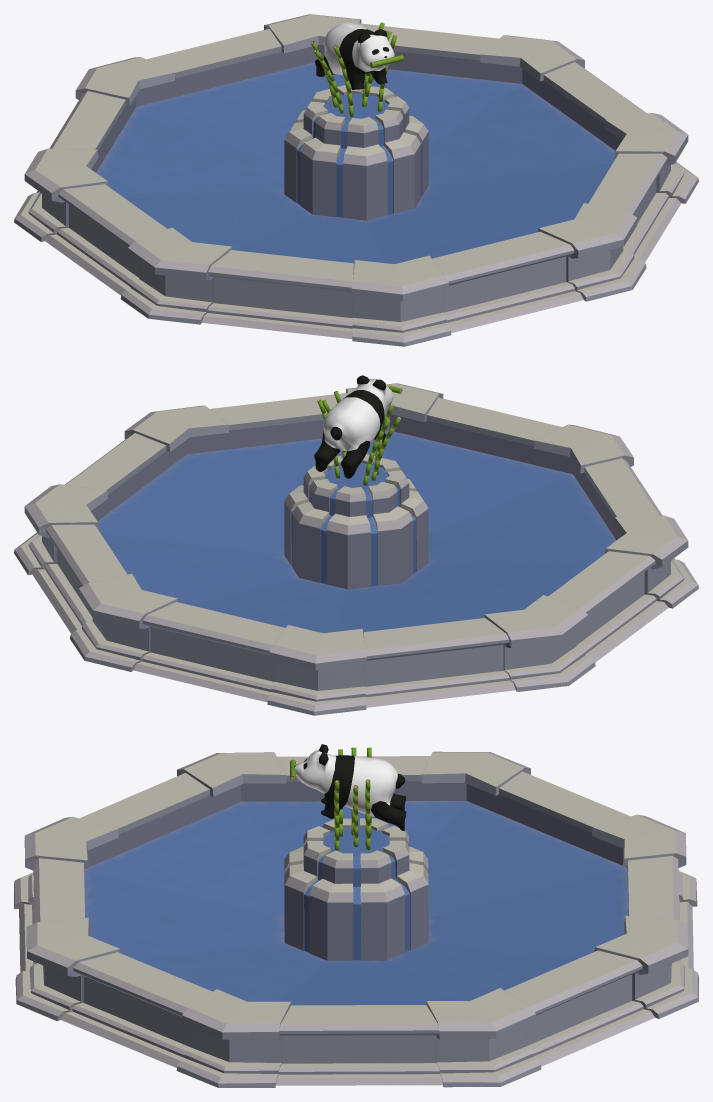
The model's file is Fountain.fbx.
3 views of the same model, one above another, from view 1: azimuth 30°, elevation 25°; view 2: azimuth 150°, elevation 25°; view 3: azimuth 270°, elevation 25° (orthographic). The views are drawn at different scales.
Parts seen in each view (by area): view 1: Cylinder, Panda.046; view 2: Cylinder, Panda.046; view 3: Cylinder, Panda.046.
Boxes of the visible parts, x1=… form: Cylinder: x1=14, y1=14, x2=698, y2=346; Panda.046: x1=315, y1=22, x2=394, y2=89; Cylinder: x1=14, y1=383, x2=698, y2=715; Panda.046: x1=314, y1=375, x2=393, y2=478; Cylinder: x1=14, y1=751, x2=698, y2=1087; Panda.046: x1=293, y1=744, x2=406, y2=831.
Bounding box in the file's own units: 1423 × 446 × 1423.
